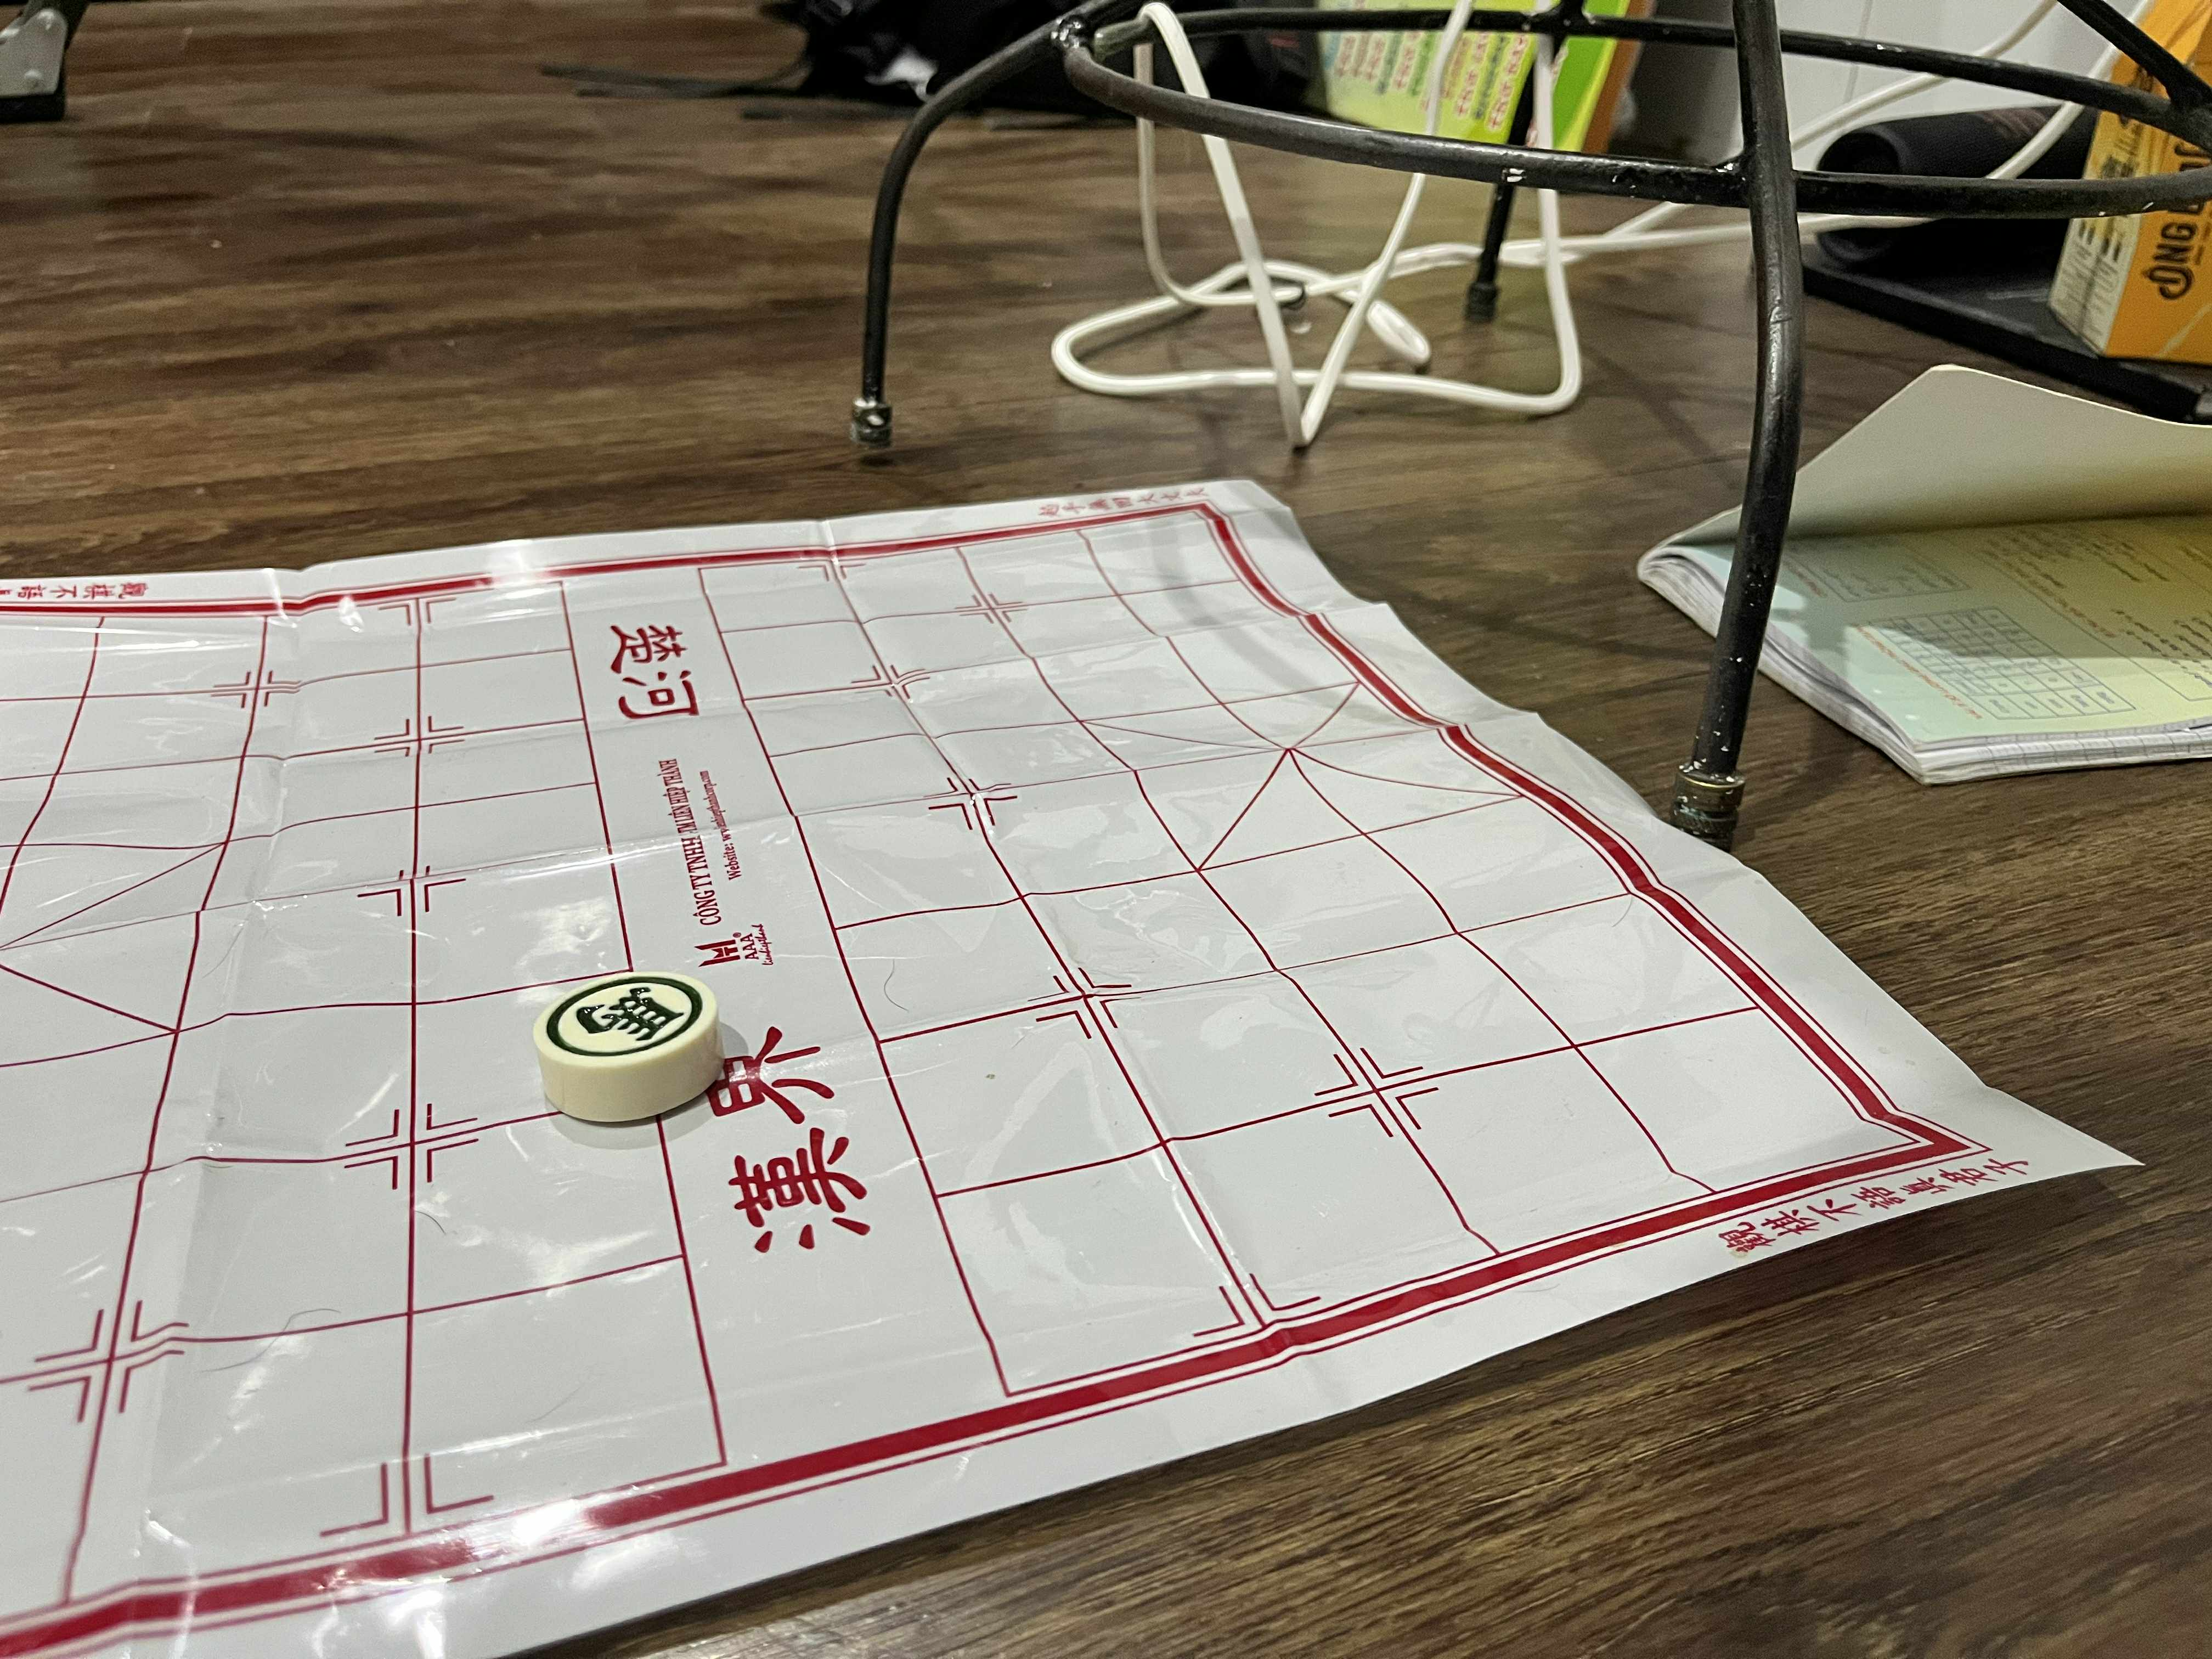black-horse: (531, 972, 716, 1066)
